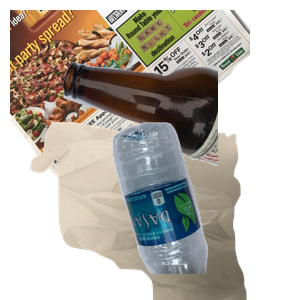glass: (60, 59, 300, 217)
paper: (10, 10, 250, 190)
plastic: (110, 120, 300, 300)
trash: (28, 120, 267, 300)
